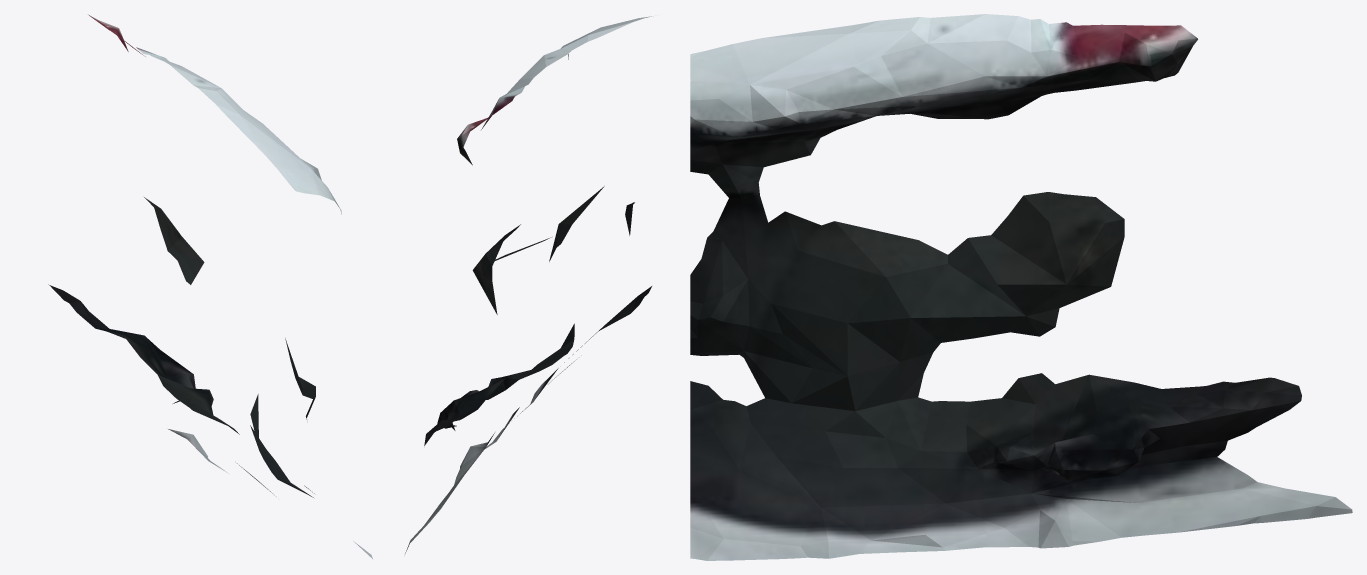
3 views of the same model, side by side, from view 1: azimuth 30°, elevation 25°; view 2: azimuth 150°, elevation 25°; view 3: azimuth 270°, elevation 25° (orthographic). The views are drawn at different scales.
Size of the model in its own units: 0.0941 by 0.4572 by 0.5498.
Materials: 1 (1 with a texture image).
